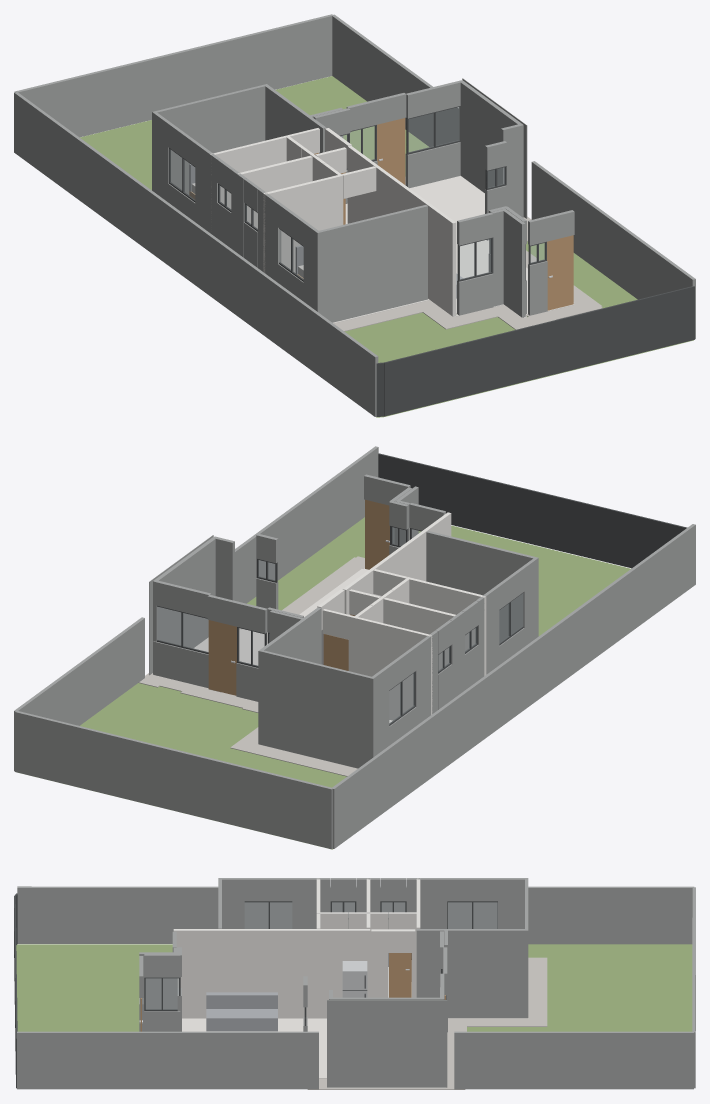
Rendered from casa.glb.
3 renders of one model, top to bottom at view 1: azimuth 30°, elevation 25°; view 2: azimuth 150°, elevation 25°; view 3: azimuth 270°, elevation 25°, orthographic. The views are drawn at different scales.
Parts seen in each view (by area): view 1: fachada, esquadria, parede, grama, vidro, concreto, piso, door5_swing__porta, door2_swing__porta; view 2: fachada, grama, esquadria, parede, vidro, concreto, door2_swing__porta, door5_swing__porta, piso, door3_swing__porta; view 3: fachada, grama, parede, vidro, concreto, tecido, piso, esquadria, door1_swing__porta, inox.
Boxes of the visible parts, x1=… form: fachada: x1=14, y1=14, x2=695, y2=416; esquadria: x1=169, y1=106, x2=694, y2=416; parede: x1=210, y1=128, x2=456, y2=316; grama: x1=80, y1=76, x2=693, y2=417; vidro: x1=170, y1=107, x2=544, y2=279; concreto: x1=334, y1=177, x2=602, y2=331; piso: x1=333, y1=176, x2=574, y2=323; door5_swing__porta: x1=547, y1=235, x2=573, y2=310; door2_swing__porta: x1=377, y1=118, x2=405, y2=184; fachada: x1=14, y1=446, x2=695, y2=849; grama: x1=18, y1=517, x2=630, y2=849; esquadria: x1=157, y1=453, x2=687, y2=725; parede: x1=317, y1=512, x2=486, y2=720; vidro: x1=157, y1=527, x2=522, y2=723; concreto: x1=138, y1=556, x2=364, y2=776; door2_swing__porta: x1=208, y1=620, x2=236, y2=695; door5_swing__porta: x1=365, y1=499, x2=389, y2=569; piso: x1=150, y1=568, x2=392, y2=768; door3_swing__porta: x1=323, y1=634, x2=348, y2=670; fachada: x1=17, y1=878, x2=695, y2=1089; grama: x1=16, y1=944, x2=692, y2=1031; parede: x1=173, y1=878, x2=420, y2=1017; vidro: x1=146, y1=902, x2=497, y2=1009; concreto: x1=182, y1=957, x2=547, y2=1089; tecido: x1=206, y1=992, x2=277, y2=1031; piso: x1=182, y1=967, x2=527, y2=1088; esquadria: x1=14, y1=893, x2=497, y2=1088; door1_swing__porta: x1=389, y1=953, x2=411, y2=997; inox: x1=342, y1=961, x2=367, y2=997.
Bounding box in the file's own units: 10.07 × 2.83 × 19.81.
